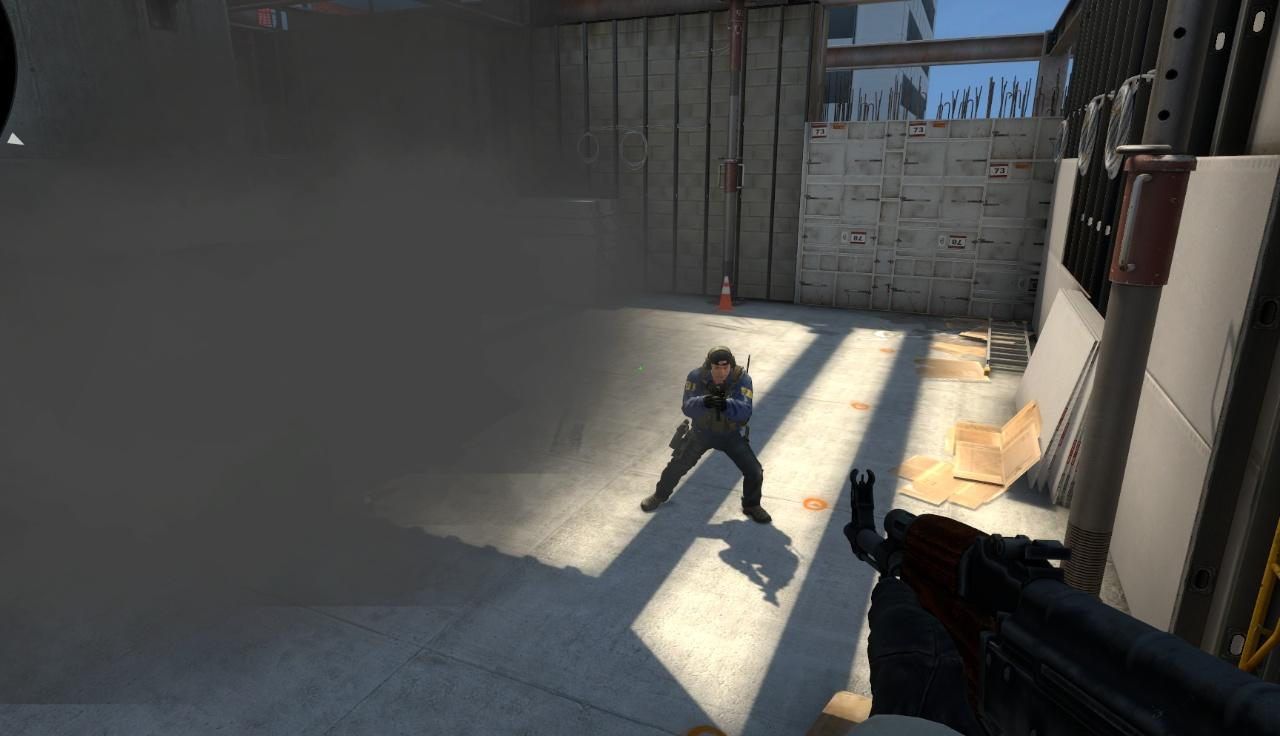ct: (683, 346, 764, 521)
cthead: (708, 346, 734, 385)
rifle: (846, 472, 1280, 736)
